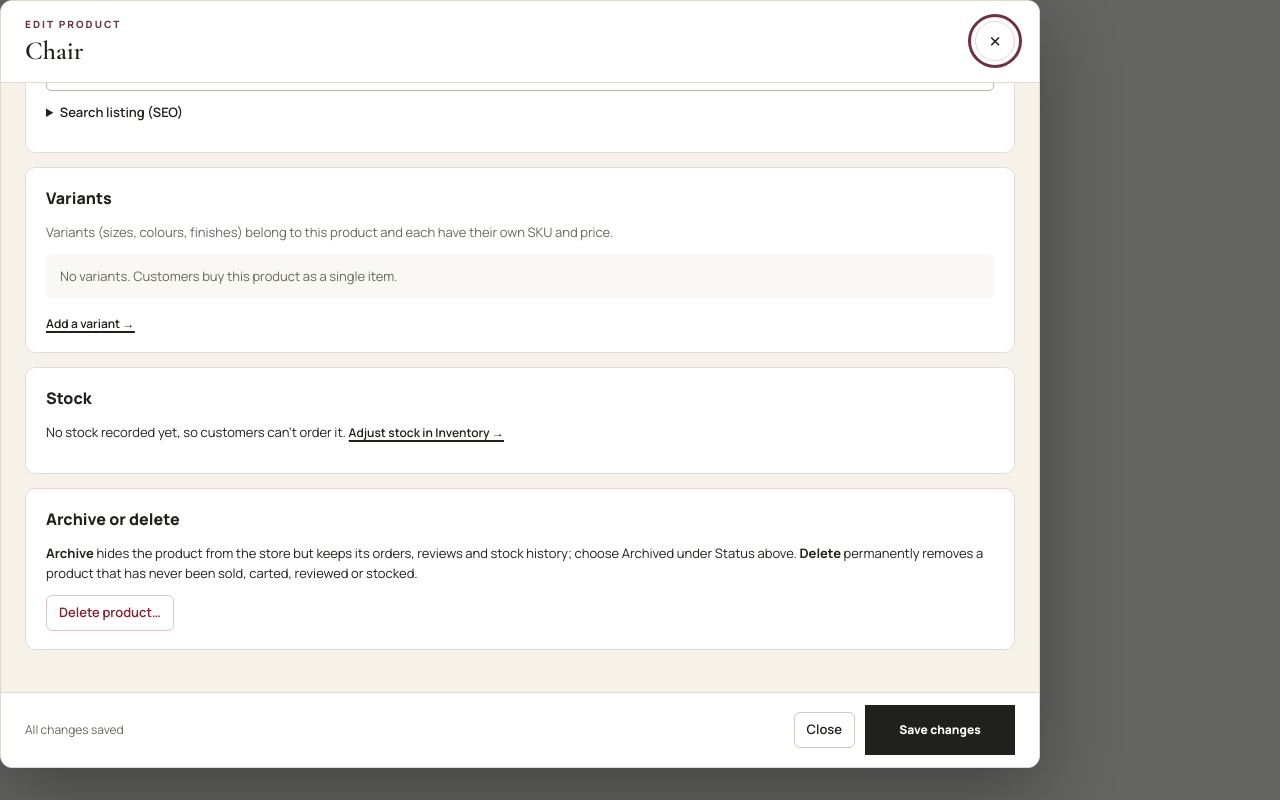
Scenario: product editor popup › confirms deletion and offers archiving when history blocks it
(page scrolled)
Click the button "Delete product…". click: (110, 613)
box: [46,595,174,631]
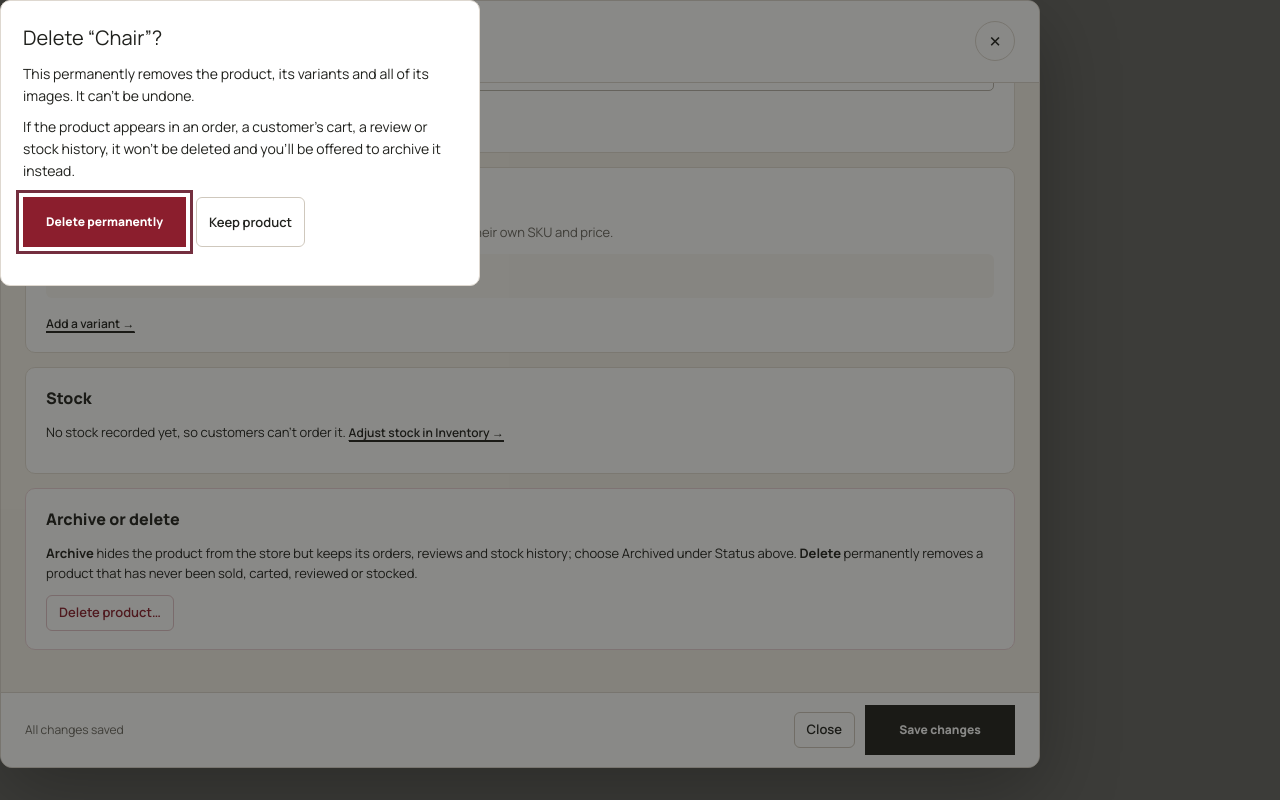
Click the button "Delete permanently". click: (104, 222)
box: [23,197,186,247]
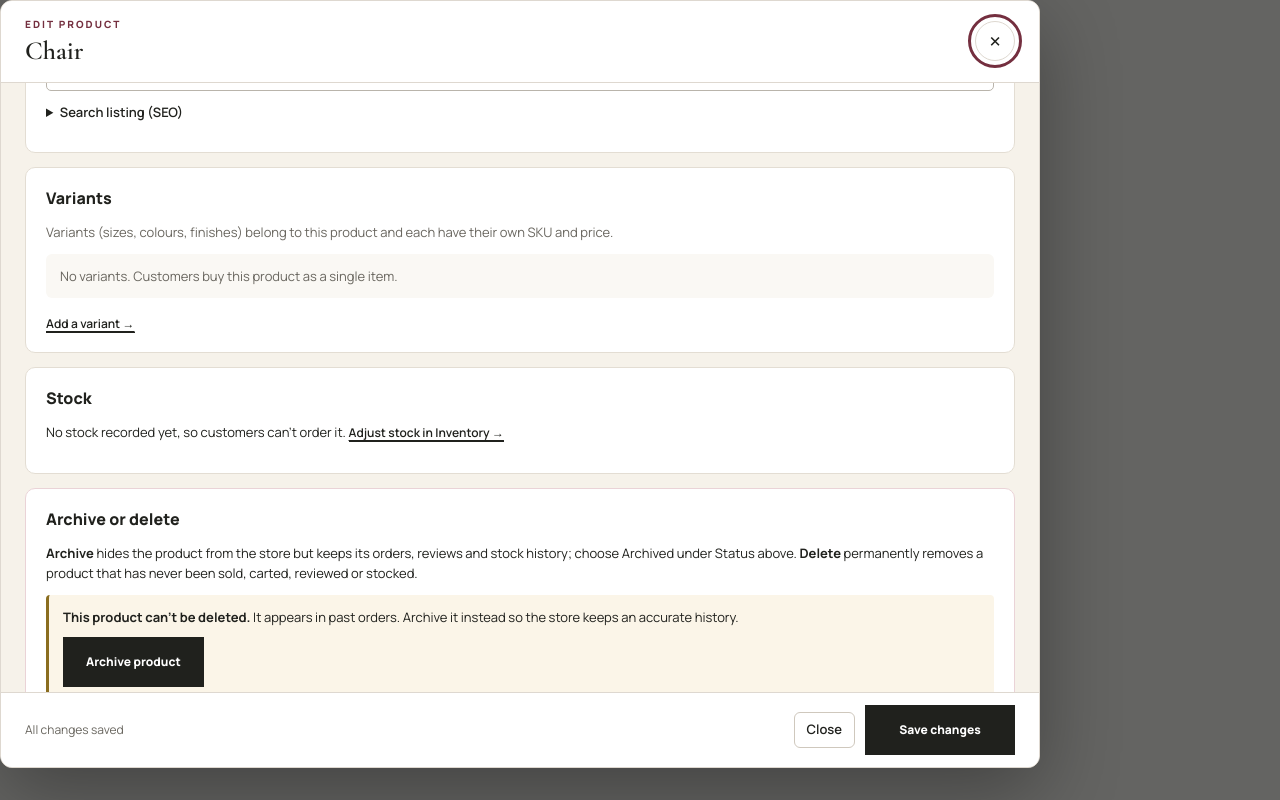
Now the text "This product can't be deleted." is shown, box [63,608,250,626]
Now the text "past orders" is shown, box [253,608,400,626]
Click the button "Archive product". click: (133, 662)
box: [63,637,204,687]
(page scrolled)
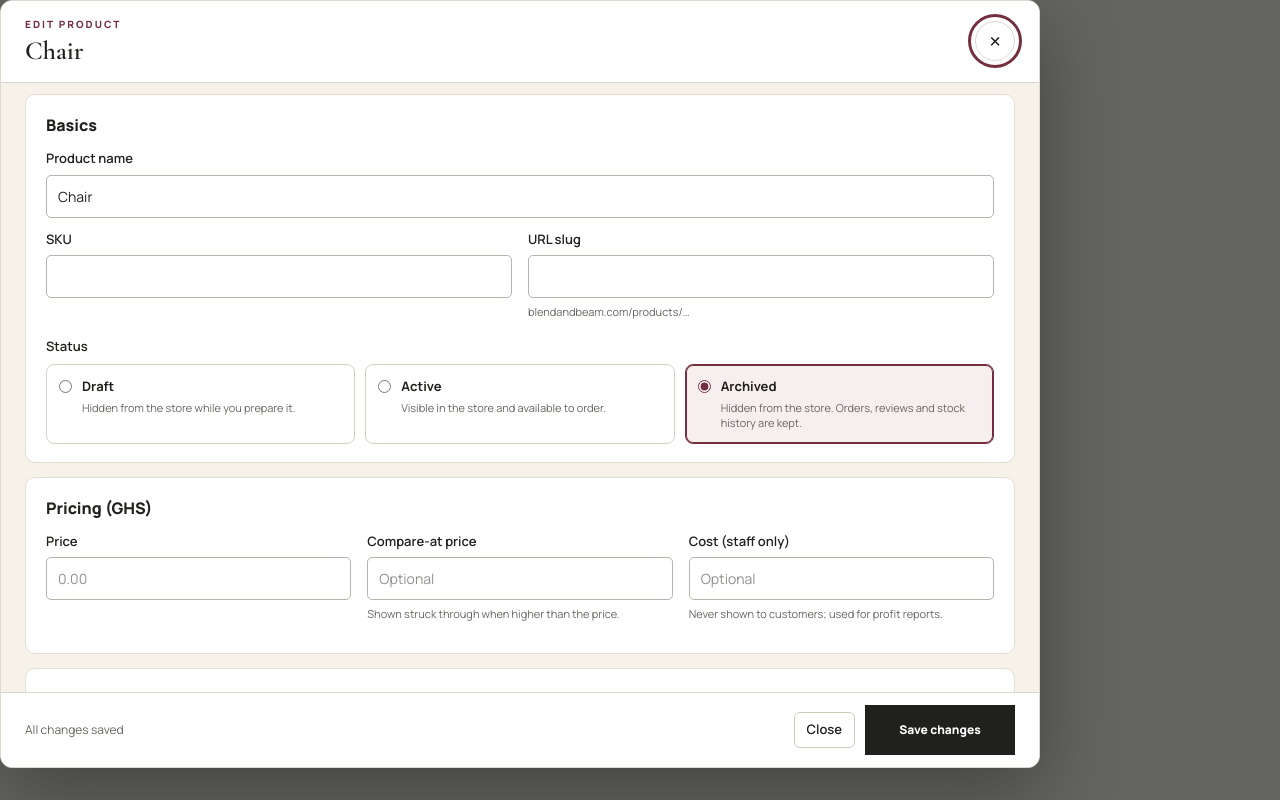
Now the radio button labelled "Archived" is checked, box [698,380,711,394]
